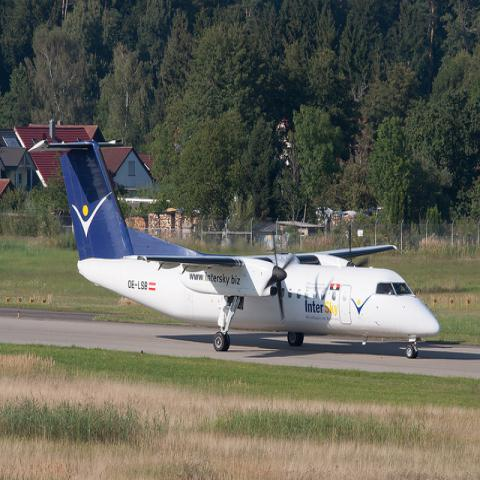car: (316, 206, 334, 218)
